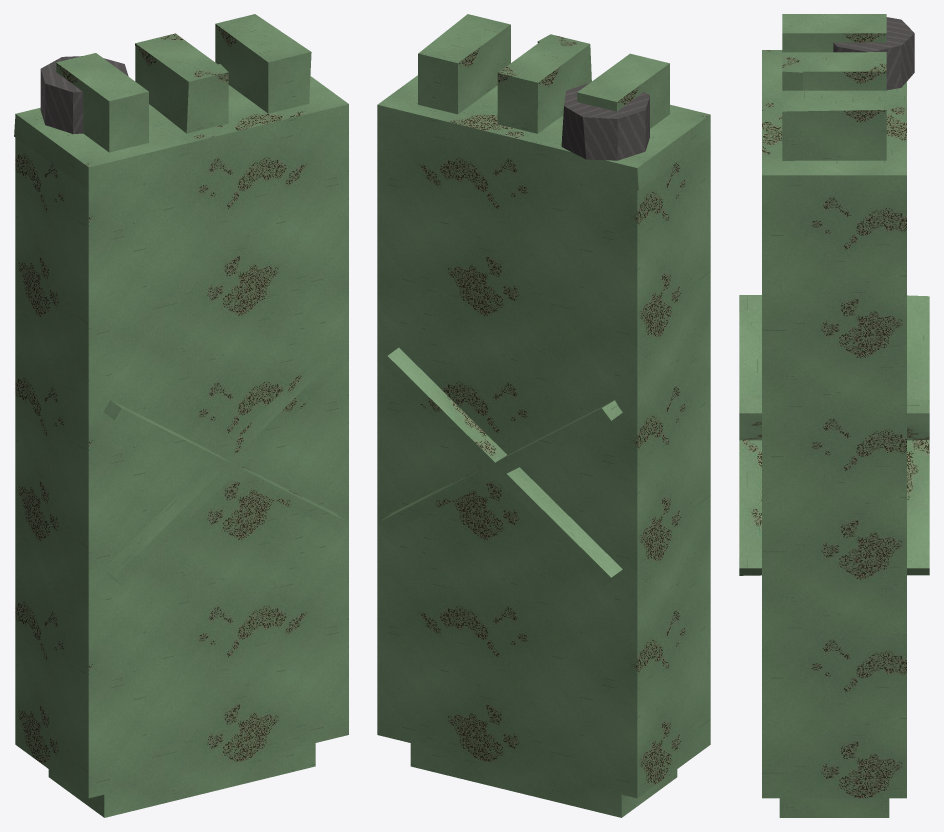
The model's file is jerrycan_v2.glb.
3 views of the same model, side by side, from view 1: azimuth 30°, elevation 25°; view 2: azimuth 150°, elevation 25°; view 3: azimuth 270°, elevation 25° (orthographic).
Visible parts, largest first — view 1: Variant_jerrycan_2; view 2: Variant_jerrycan_2; view 3: Variant_jerrycan_2.
Part boxes in pixels (x1,y1,x2,y2): Variant_jerrycan_2: [14, 14, 348, 817]; Variant_jerrycan_2: [377, 14, 710, 817]; Variant_jerrycan_2: [739, 14, 929, 817].
Bounding box in the file's own units: 0.1709 × 0.446 × 0.109.
Materials: 2 (2 with a texture image).
